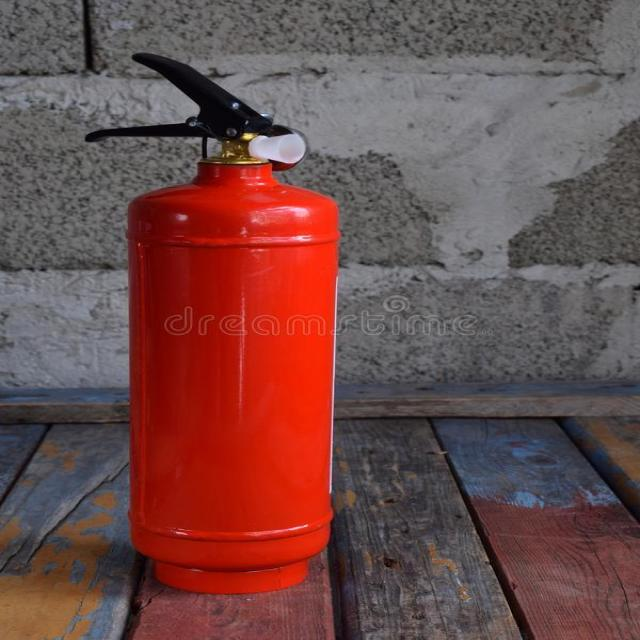fire_extinguisher: (67, 48, 349, 602)
